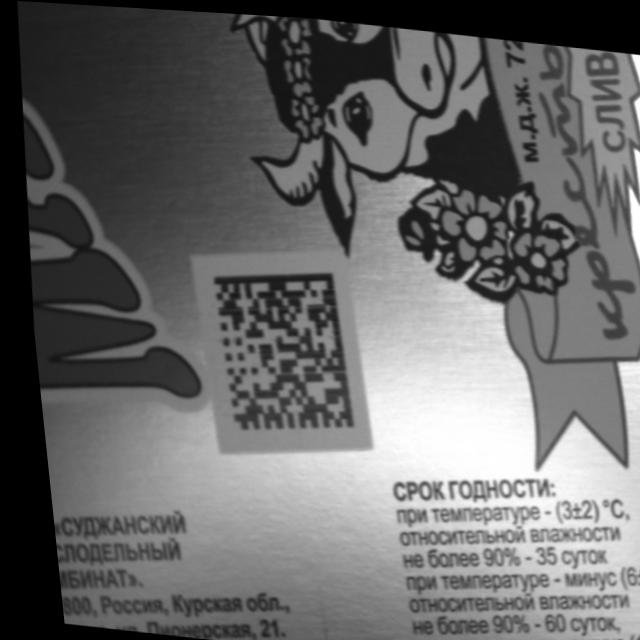datamatrix: (198, 257, 355, 440)
